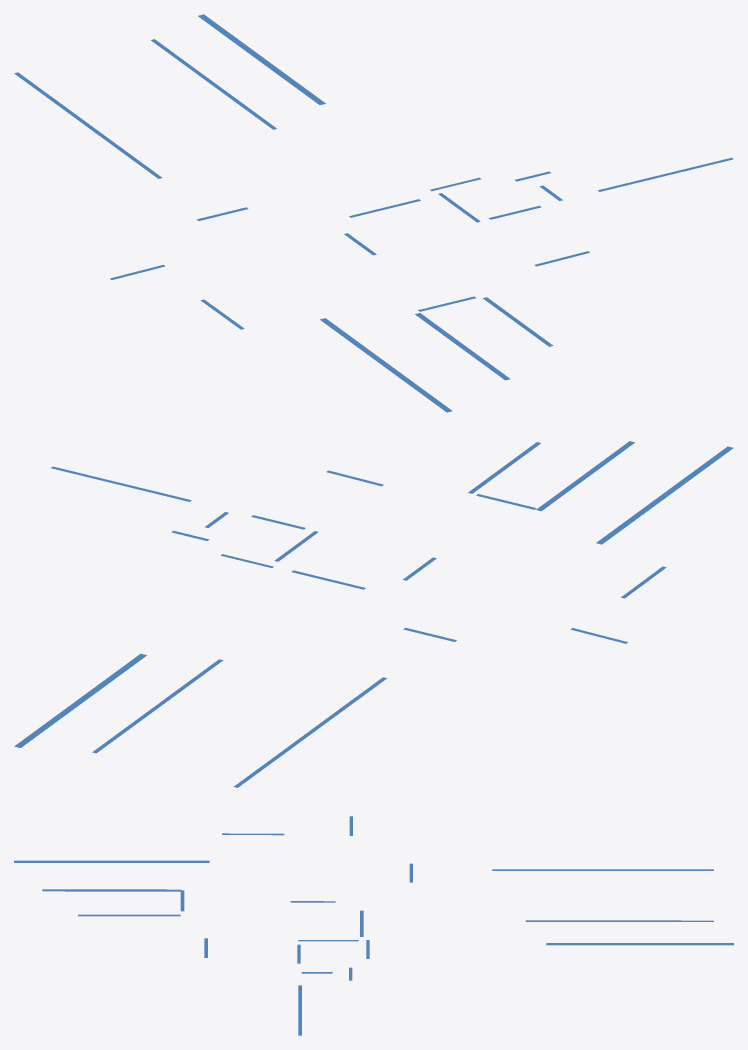
The model's file is data.gltf.
3 renders of one model, top to bottom at view 1: azimuth 30°, elevation 25°; view 2: azimuth 150°, elevation 25°; view 3: azimuth 270°, elevation 25°, orthographic. The views are drawn at different scales.
Visible parts, largest first — view 1: Data; view 2: Data; view 3: Data.
Boxes of the visible parts, left/top/right/bottom form: Data: left=14, top=14, right=733, bottom=412; Data: left=14, top=441, right=733, bottom=787; Data: left=14, top=816, right=733, bottom=1035.
Size of the model in its own units: 118 by 1.09 by 162.
